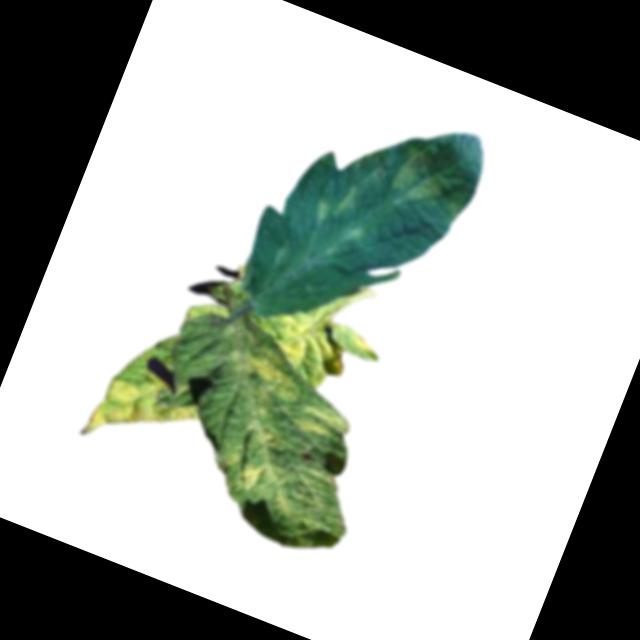Leaf_Mold: (78, 360, 208, 473), (266, 304, 385, 393), (384, 131, 473, 222), (221, 344, 305, 405), (227, 448, 289, 505), (309, 172, 362, 234), (292, 399, 354, 451), (236, 415, 283, 454)
